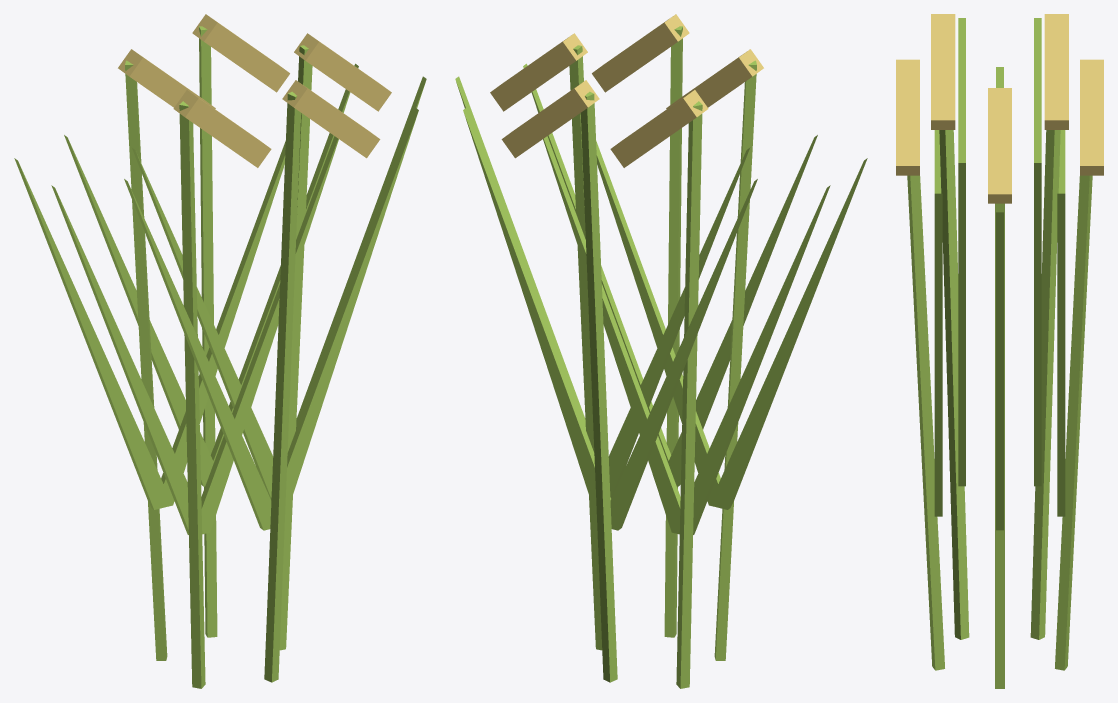
Rendered from TR3_RiceCluster_Mature.glb.
3 renders of one model, left to right at view 1: azimuth 30°, elevation 25°; view 2: azimuth 150°, elevation 25°; view 3: azimuth 270°, elevation 25°, orthographic. The views are drawn at different scales.
Parts seen in each view (by area): view 1: TR3_RiceCluster_Mature; view 2: TR3_RiceCluster_Mature; view 3: TR3_RiceCluster_Mature.
Part boxes in pixels (x1,y1,x2,y2): TR3_RiceCluster_Mature: (14, 14, 426, 688); TR3_RiceCluster_Mature: (455, 14, 867, 688); TR3_RiceCluster_Mature: (896, 14, 1103, 688).
Bounding box in the file's own units: 0.5357 × 0.7907 × 0.242.
